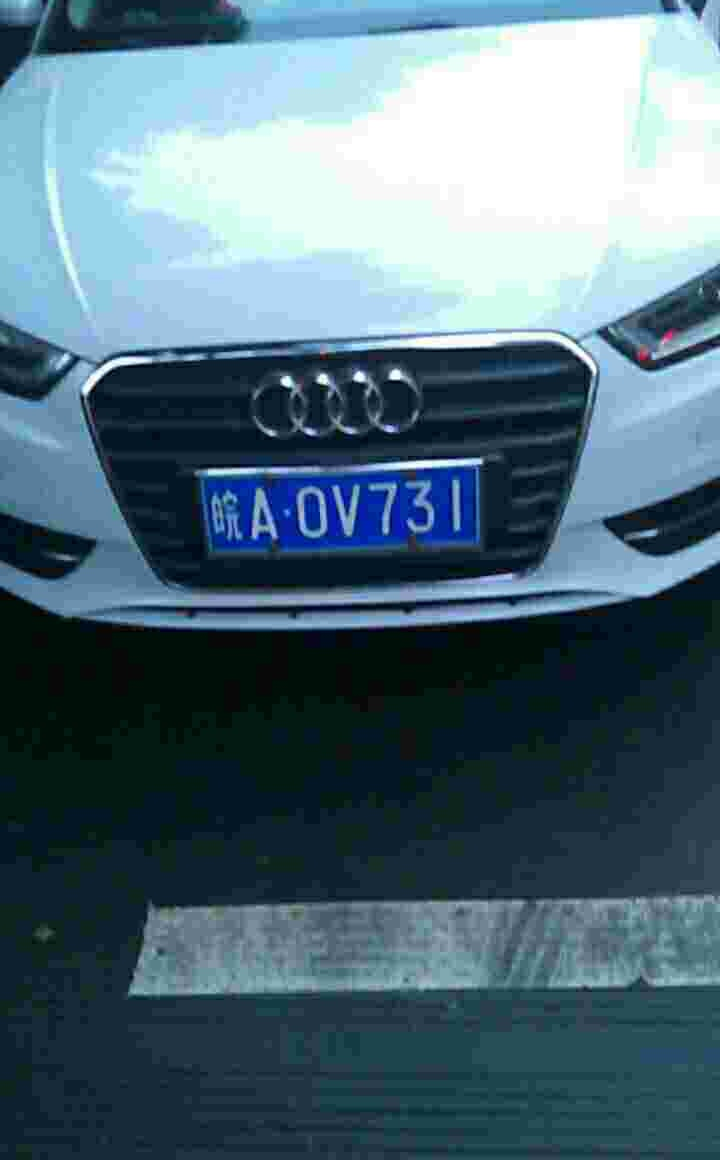license_plate: (189, 465, 477, 548)
